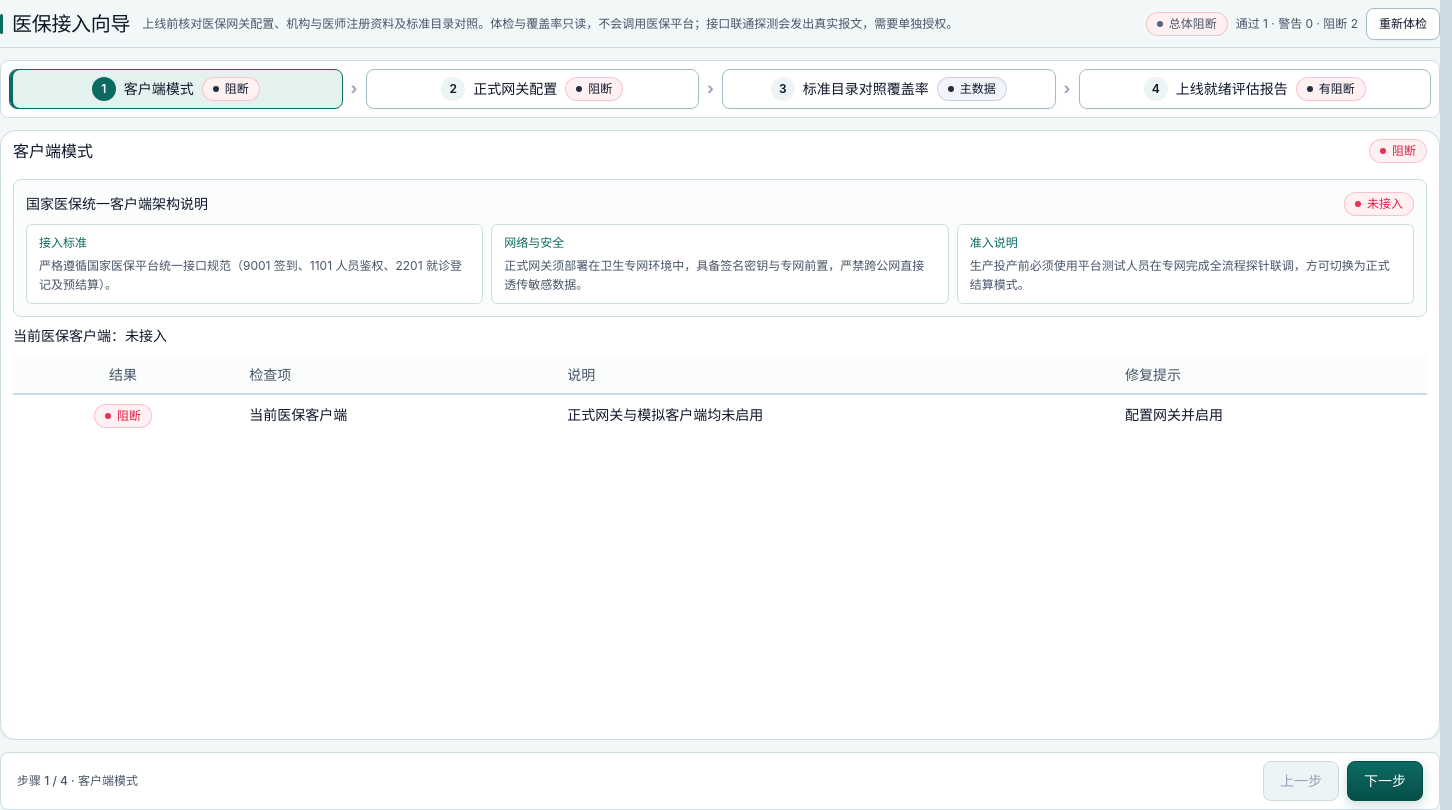
InsuranceOnboardingWizard › exports with the current filter and reports export failures
Click the button "3 标准目录对照覆盖率 主数据" at x=889, y=89, box [722,69,1056,109]
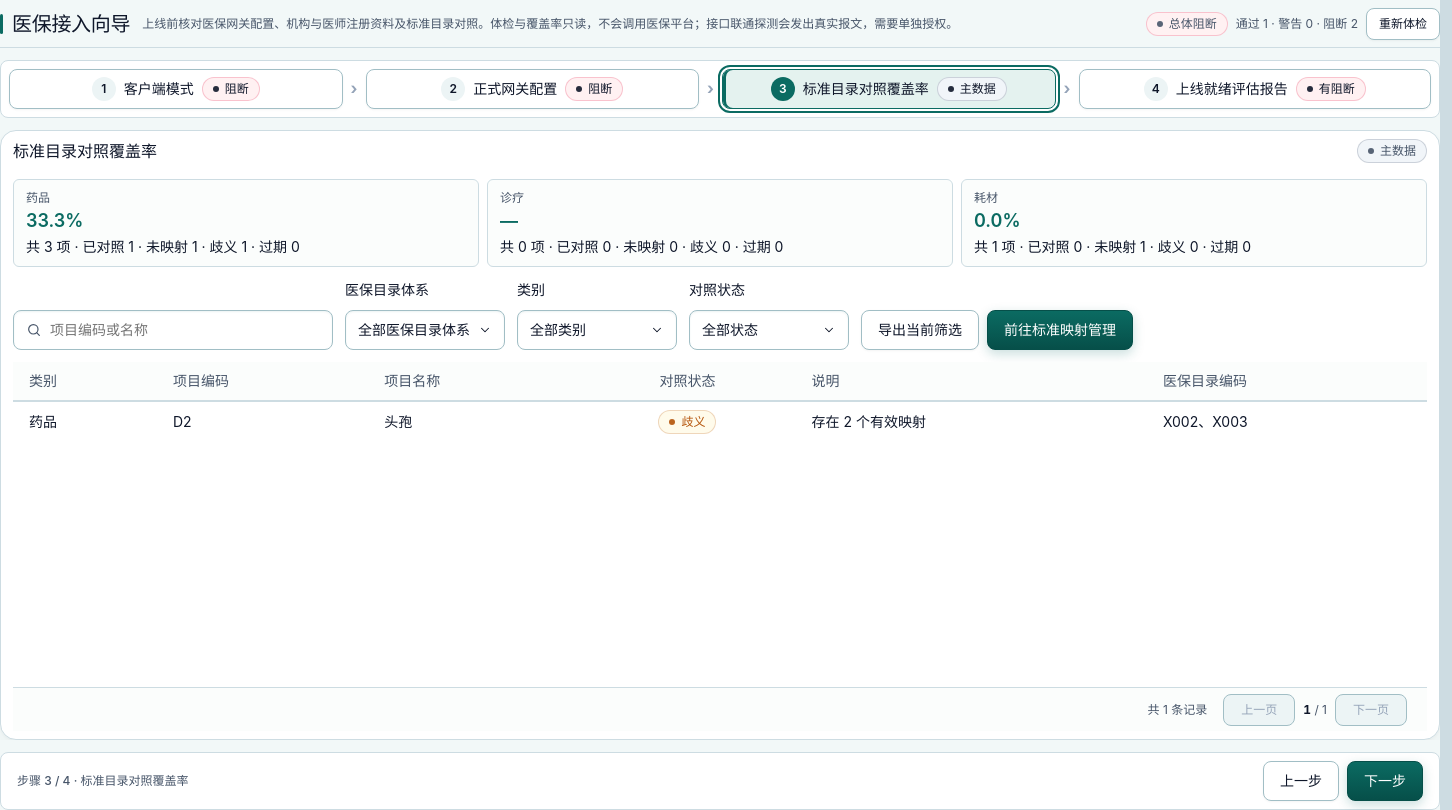
Click the button "导出当前筛选" at x=920, y=330, box [861,310,979,350]
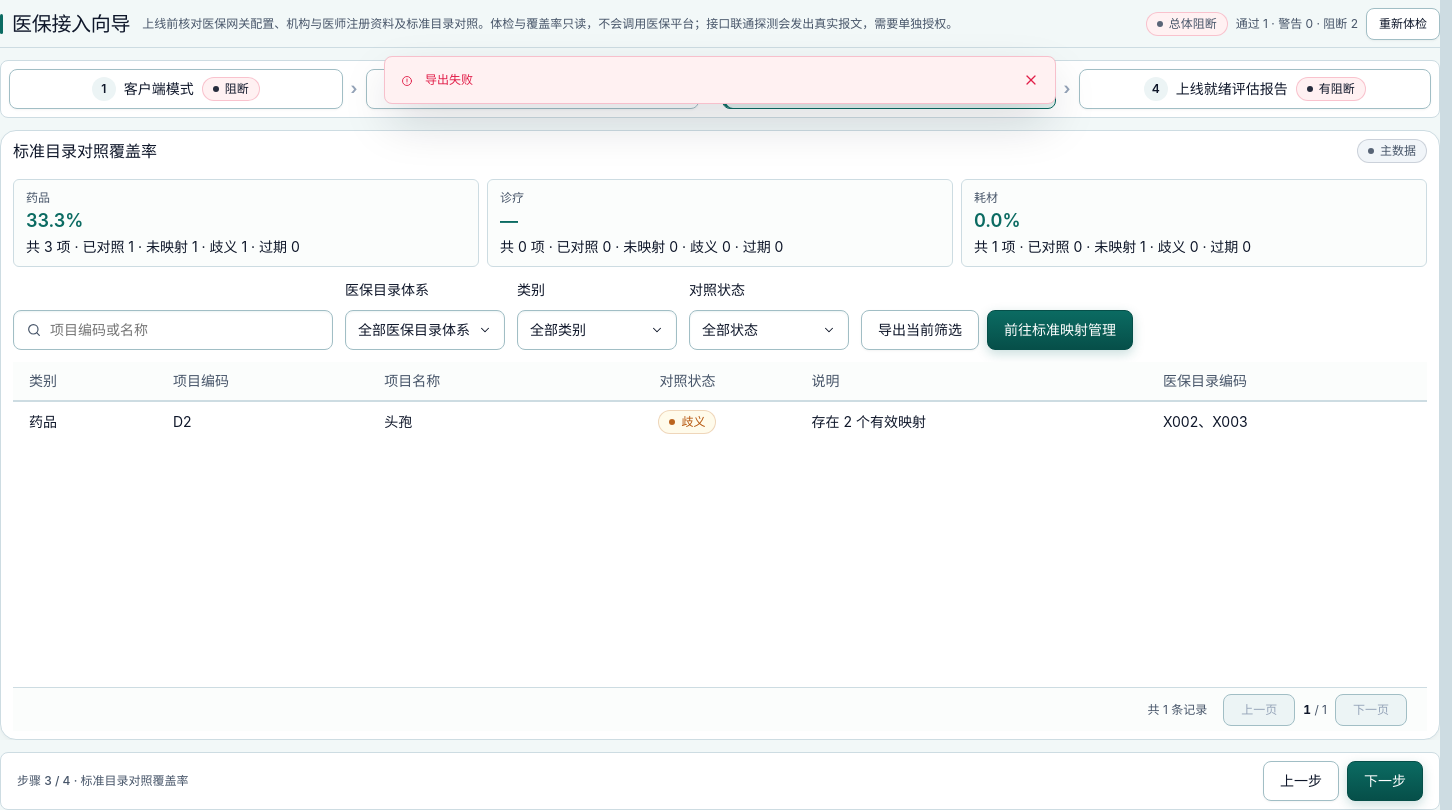
Expected: the text "导出失败" is shown, [425,72,473,87]
